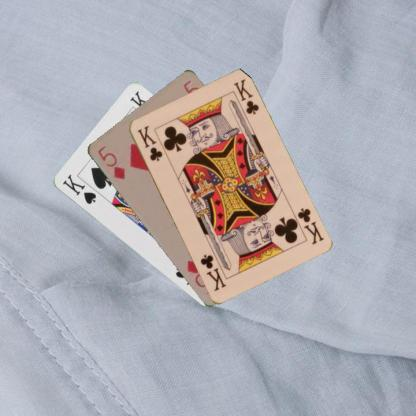5d: (94, 143, 126, 181)
Kc: (294, 205, 325, 246), (134, 122, 164, 162)
Ks: (60, 171, 97, 206)
